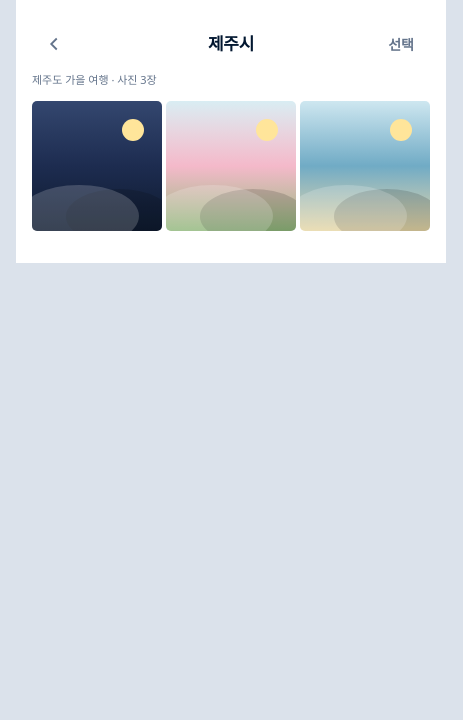
Test: PhotoListPage › 전체 선택을 누른 경우에만 남은 페이지를 모두 가져와 선택한다
Click the button "선택" at (401, 44), box [372,24,430,64]
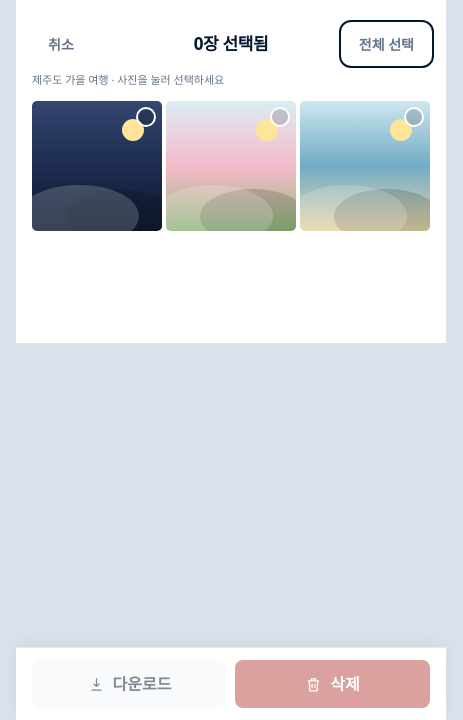
Click the button "전체 선택" at (386, 44), box [343,24,430,64]
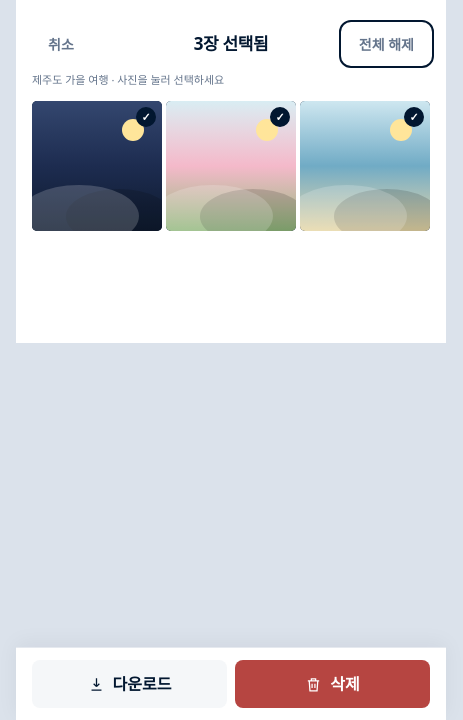
Check: the heading "3장 선택됨" is shown, box [194,32,268,55]
Check: the button "전체 해제" is shown, box [343,24,430,64]
